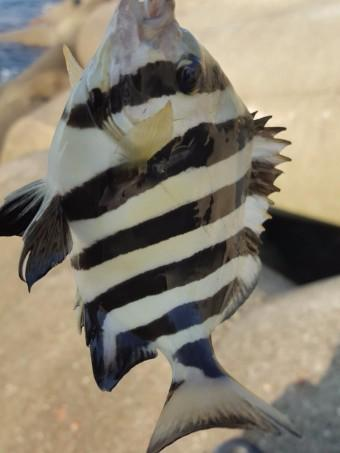fish: (0, 0, 303, 452)
